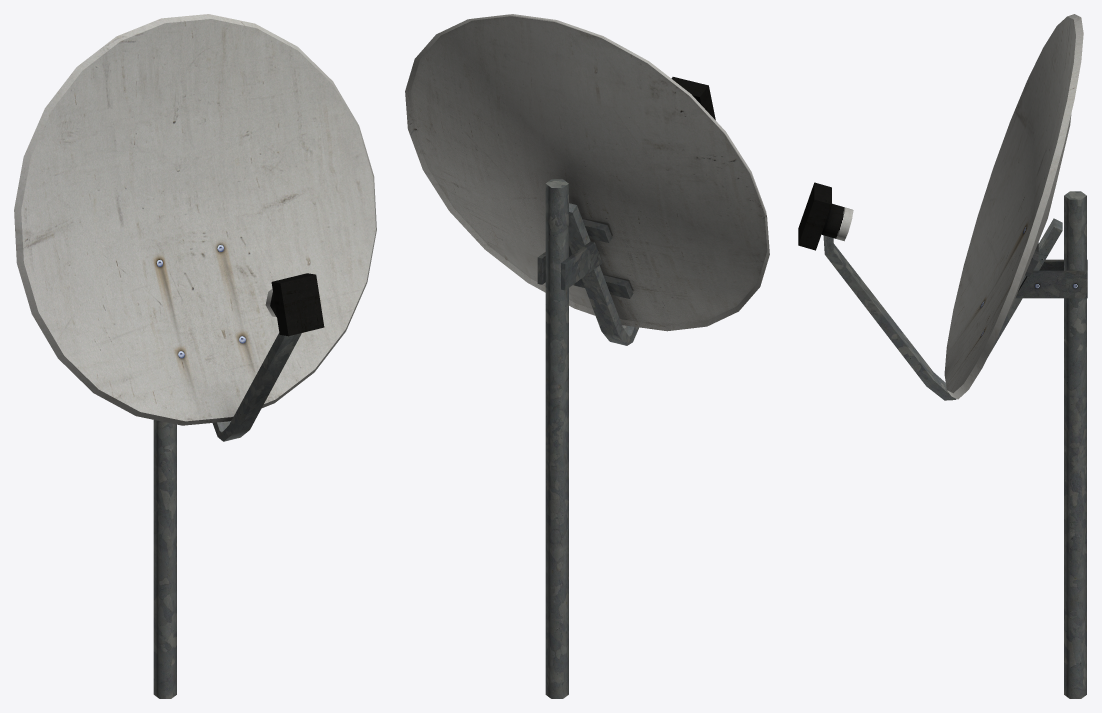
Rendered from satellite_LOD0.fbx.
3 views of the same model, side by side, from view 1: azimuth 30°, elevation 25°; view 2: azimuth 150°, elevation 25°; view 3: azimuth 270°, elevation 25° (orthographic). The views are drawn at different scales.
Parts seen in each view (by area): view 1: polySurface292; view 2: polySurface292; view 3: polySurface292.
Part boxes in pixels (bbox=[...]): polySurface292: bbox=[14, 14, 376, 698]; polySurface292: bbox=[405, 14, 769, 698]; polySurface292: bbox=[798, 14, 1087, 698].
Size of the model in its own units: 1.88 by 3.39 by 1.34.
